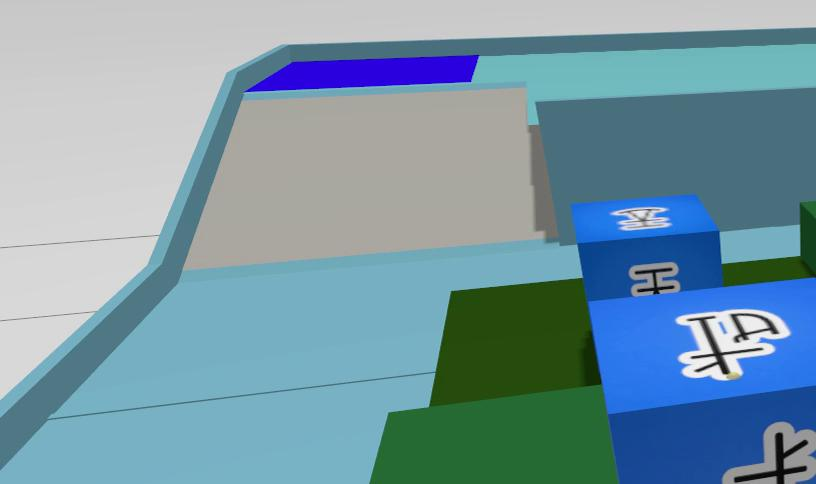KFS_REAL: (590, 278, 816, 484), (571, 196, 723, 299), (676, 309, 790, 378), (722, 422, 816, 484)
